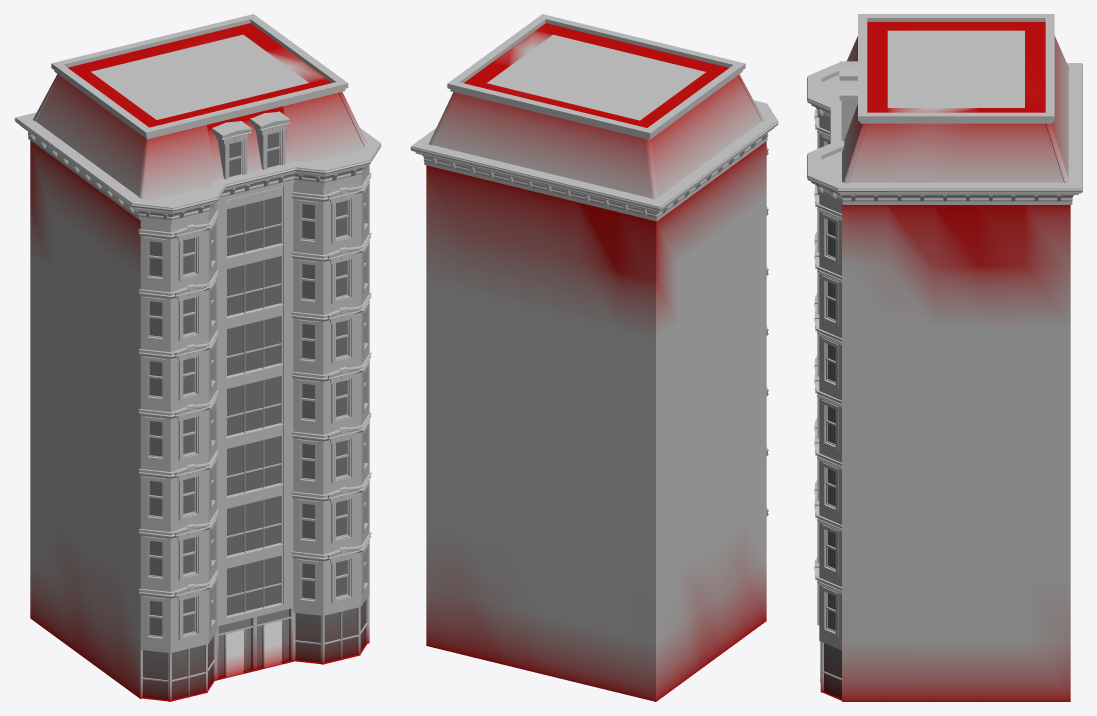
Rendered from Building_Medium_1.gltf.
3 views of the same model, side by side, from view 1: azimuth 30°, elevation 25°; view 2: azimuth 150°, elevation 25°; view 3: azimuth 270°, elevation 25° (orthographic). The views are drawn at different scales.
Parts seen in each view (by area): view 1: Building_Medium_1; view 2: Building_Medium_1; view 3: Building_Medium_1.
Part boxes in pixels (x1=…): Building_Medium_1: x1=14, y1=14, x2=381, y2=701; Building_Medium_1: x1=410, y1=14, x2=778, y2=701; Building_Medium_1: x1=807, y1=14, x2=1082, y2=701.
Size of what is drawn, in the model's own units: 13.06 by 27.92 by 12.06.
